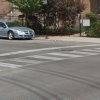Crosswalk: (6, 41, 99, 76)
